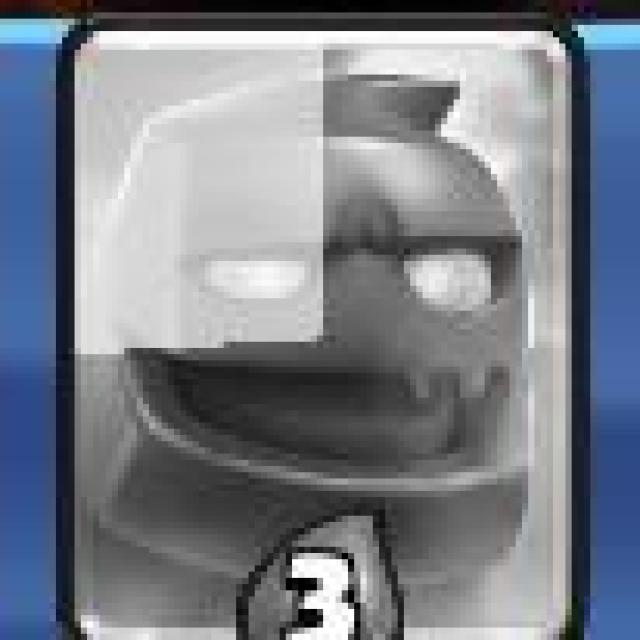Elixir_Golem: (54, 14, 591, 640)
